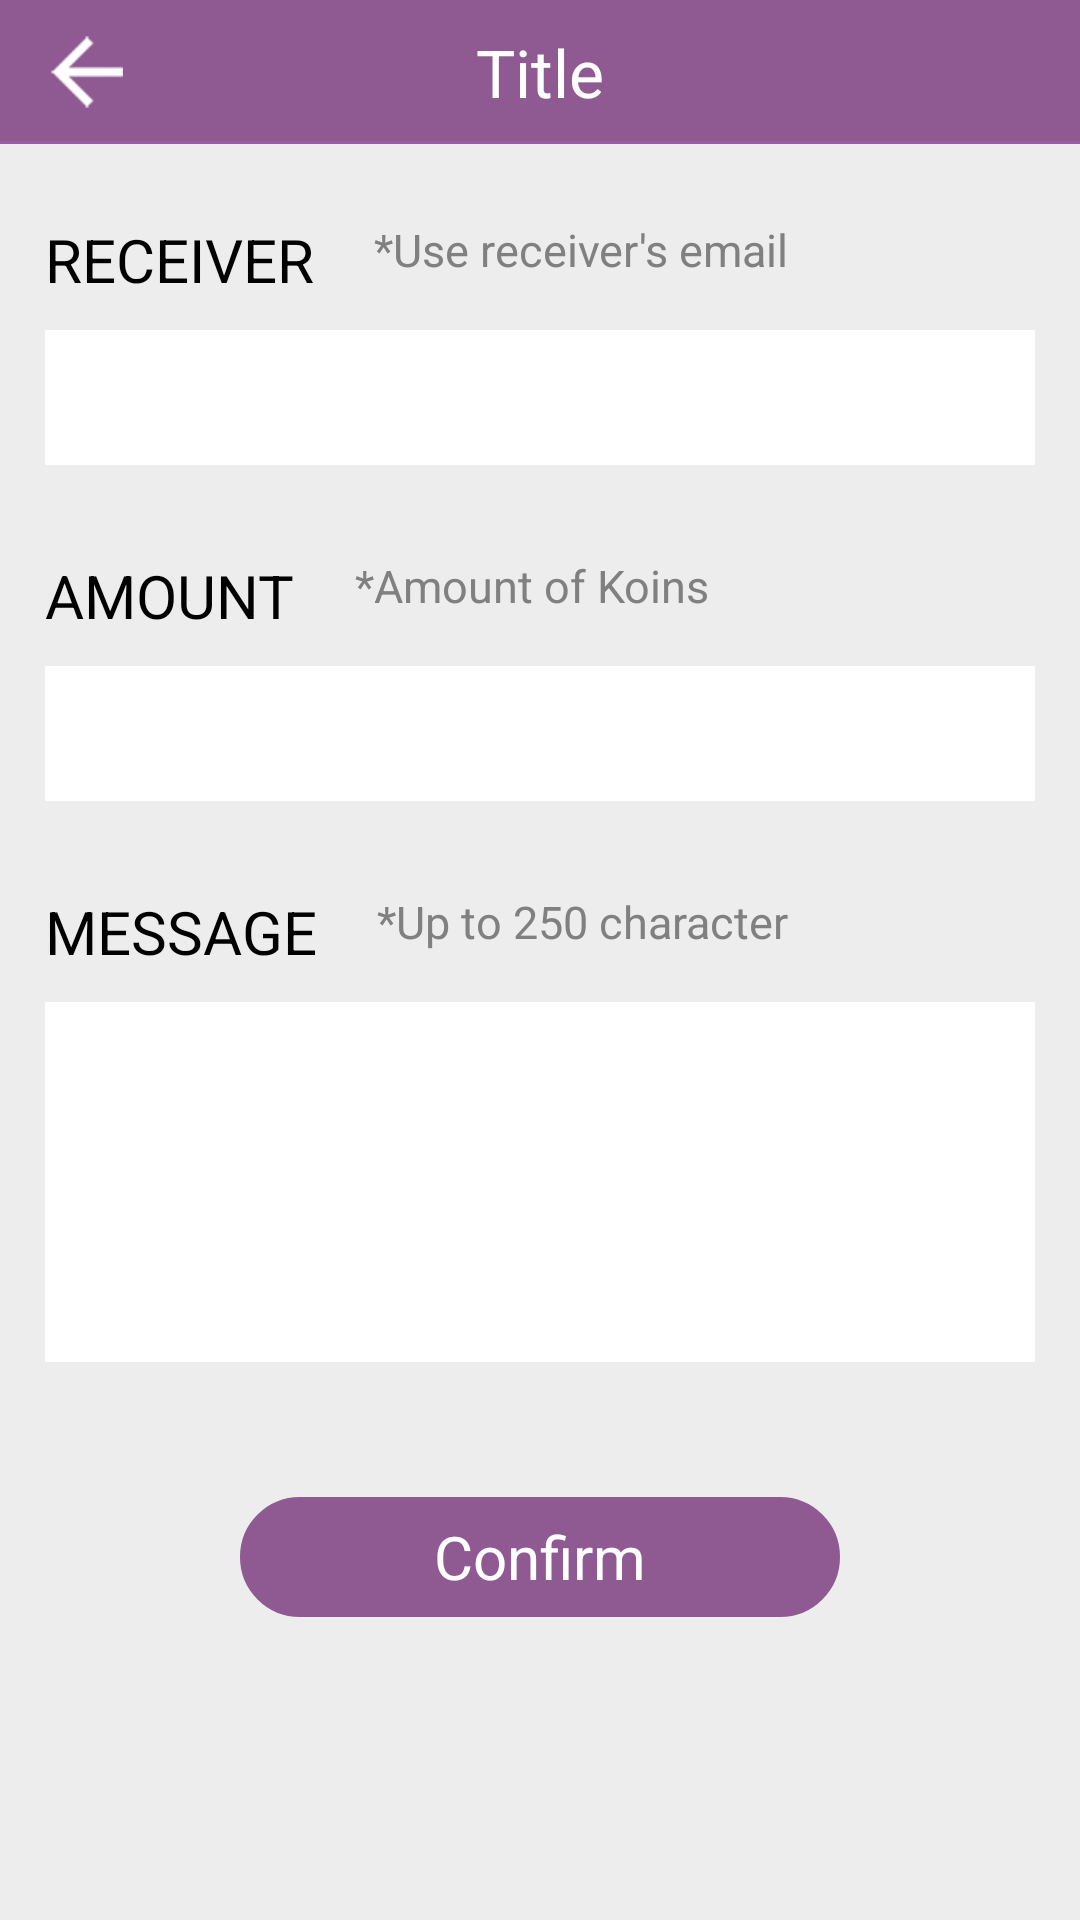

Named icons in this screenshot (1080*1920) and their bounding boxes, (x1, y1, x2, y2):
back: (51, 36, 123, 108)
